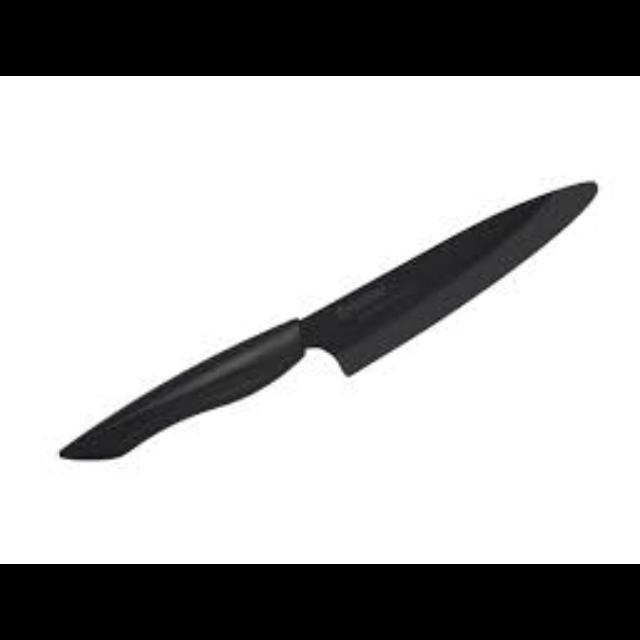Knife: (57, 176, 597, 460)
